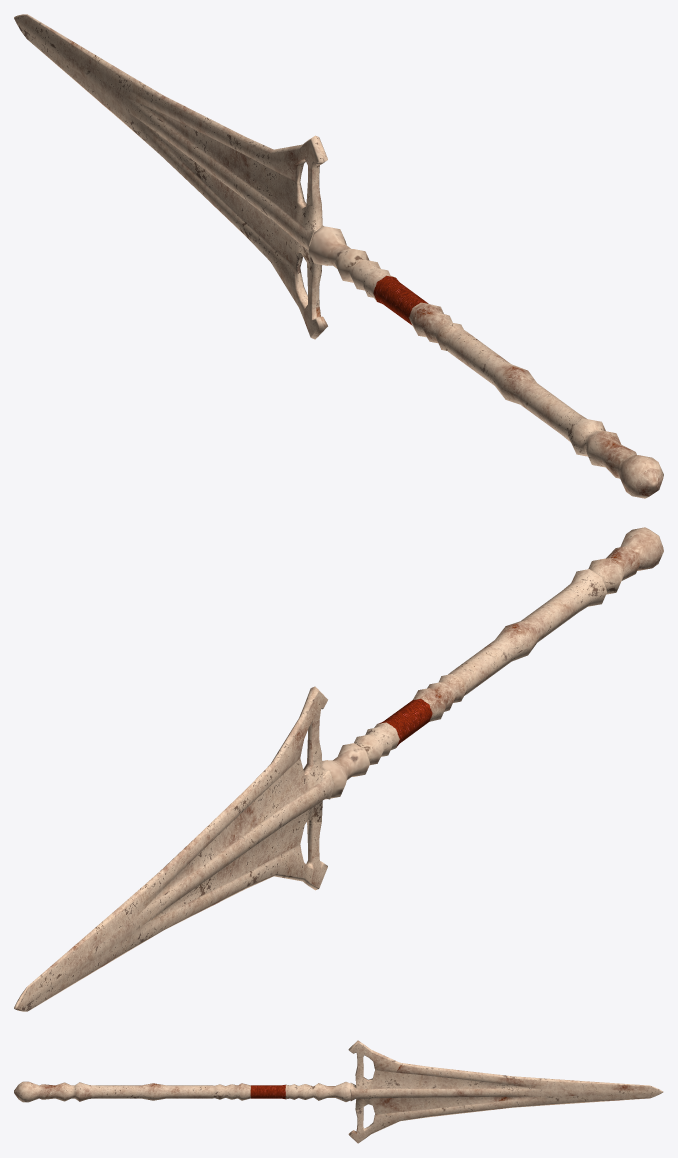
The model's file is dragonslayer_swordspear.glb.
The picture shows the model from 3 angles, top to bottom: view 1: azimuth 30°, elevation 25°; view 2: azimuth 150°, elevation 25°; view 3: azimuth 270°, elevation 25°; orthographic projection. The views are drawn at different scales.
Visible parts, largest first — view 1: Cylinder.001; view 2: Cylinder.001; view 3: Cylinder.001.
Boxes of the visible parts, x1,y1,x2,y2 form: Cylinder.001: (14, 14, 663, 498); Cylinder.001: (14, 527, 663, 1011); Cylinder.001: (14, 1040, 663, 1143).
Size of the model in its own units: 0.0791 by 0.4118 by 2.34.
2 materials, 2 textured.
